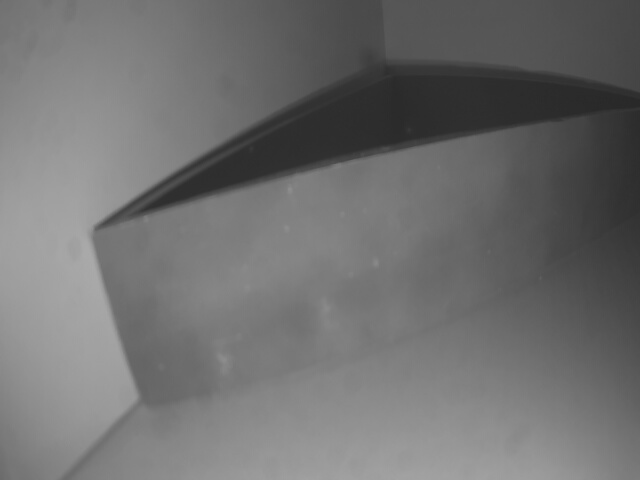Green: (110, 103, 640, 414)
